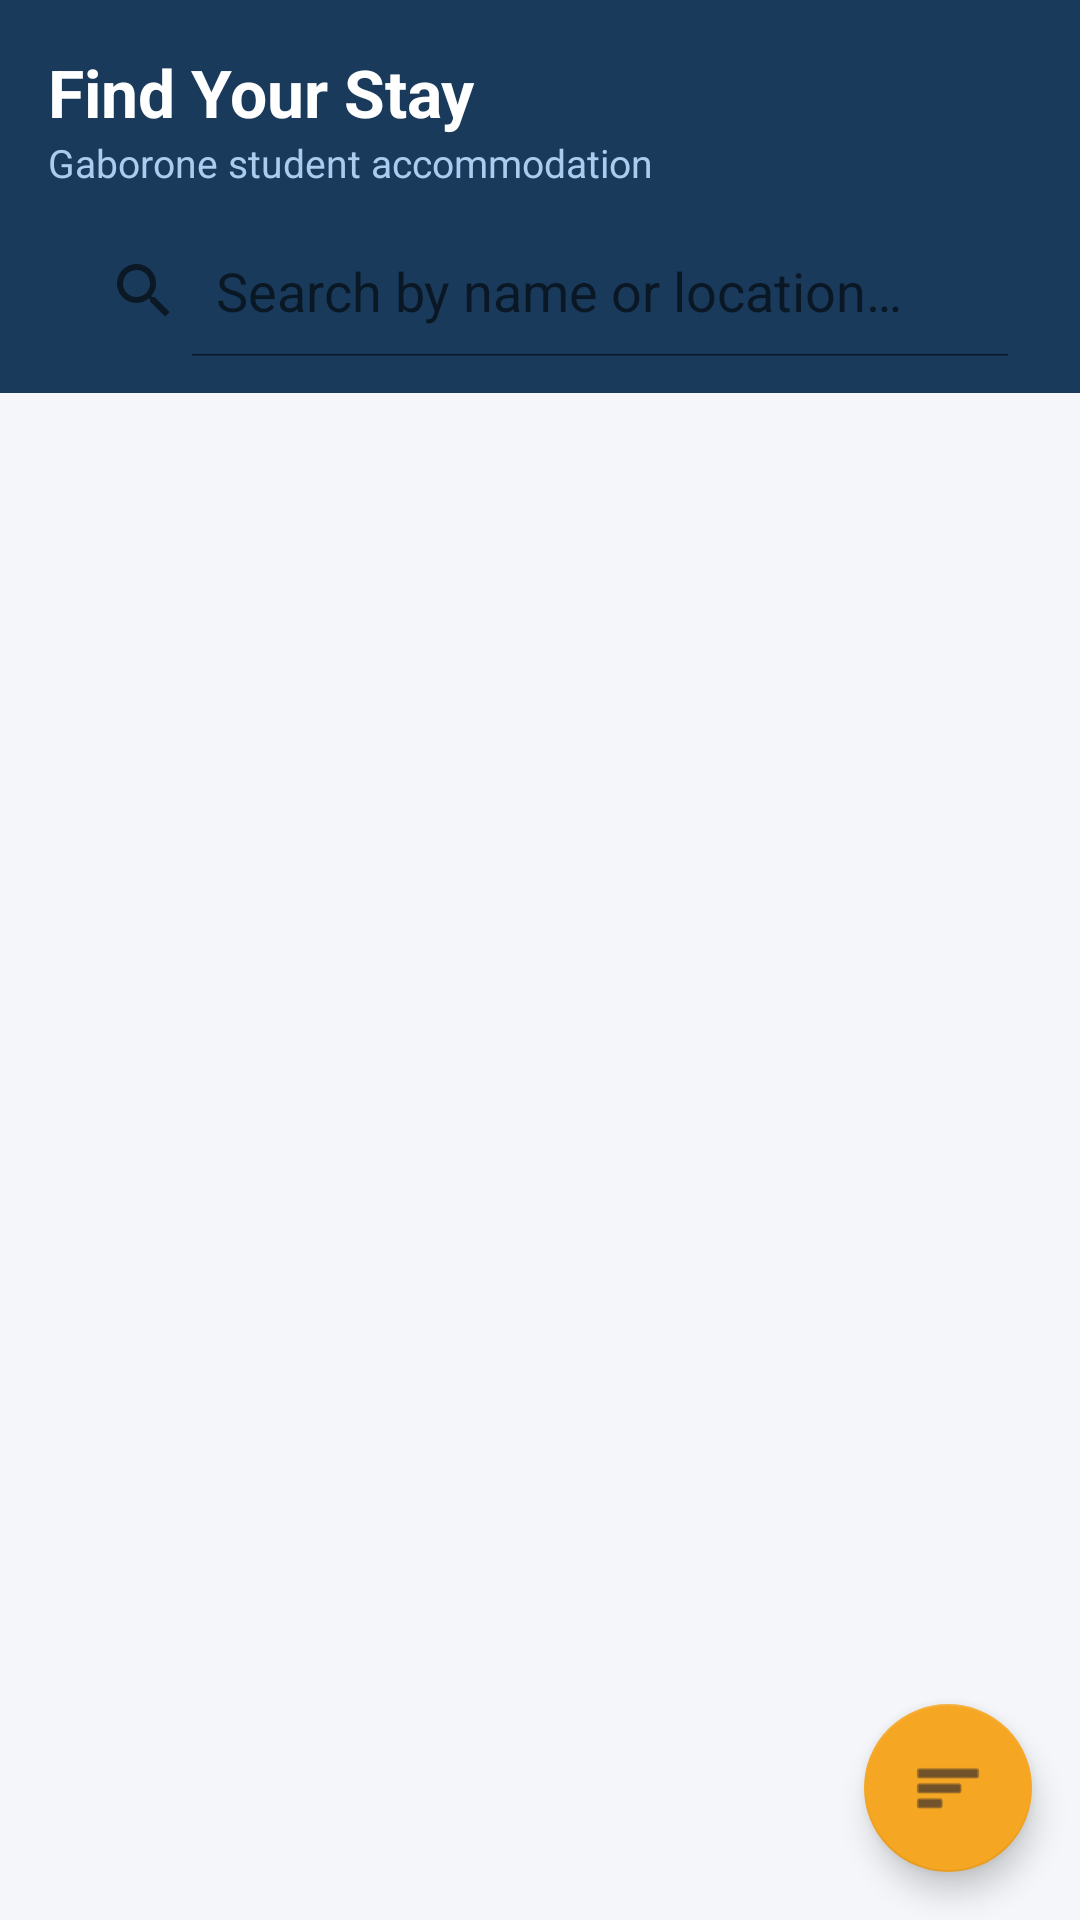

Where to tap for icons on this 1080x1920 app screen, as point (x, y):
Filter: point (948, 1788)
